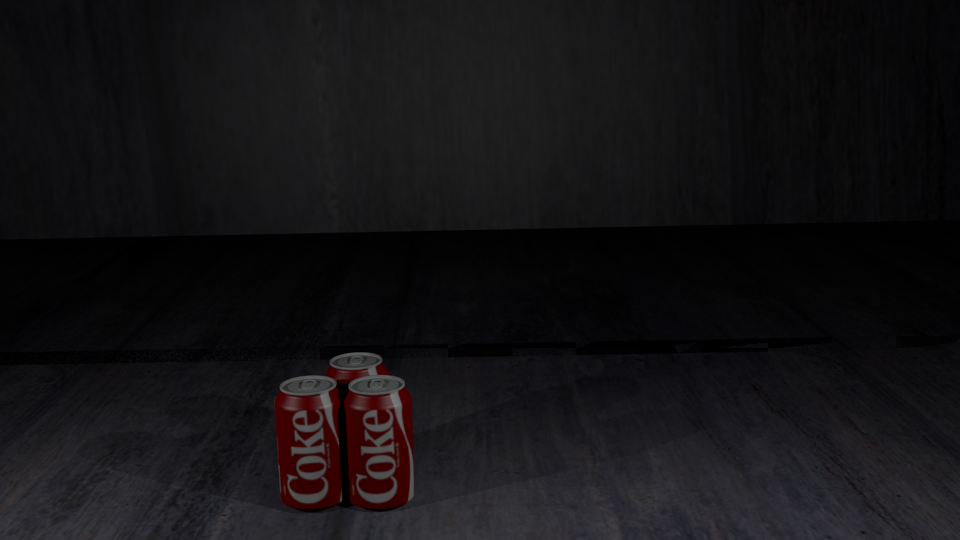cola_can: (274, 376, 345, 506), (343, 375, 413, 504), (325, 353, 387, 475)
